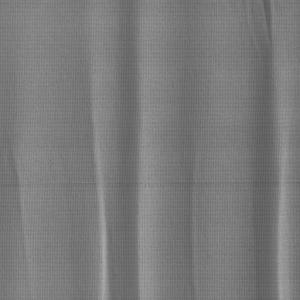Wrinkle: (1, 72, 300, 300), (260, 1, 279, 57)
